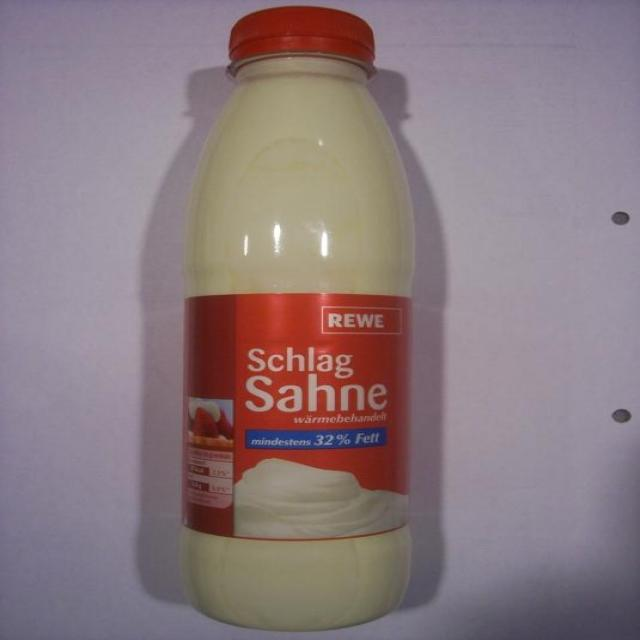Cream: (181, 7, 412, 630)
